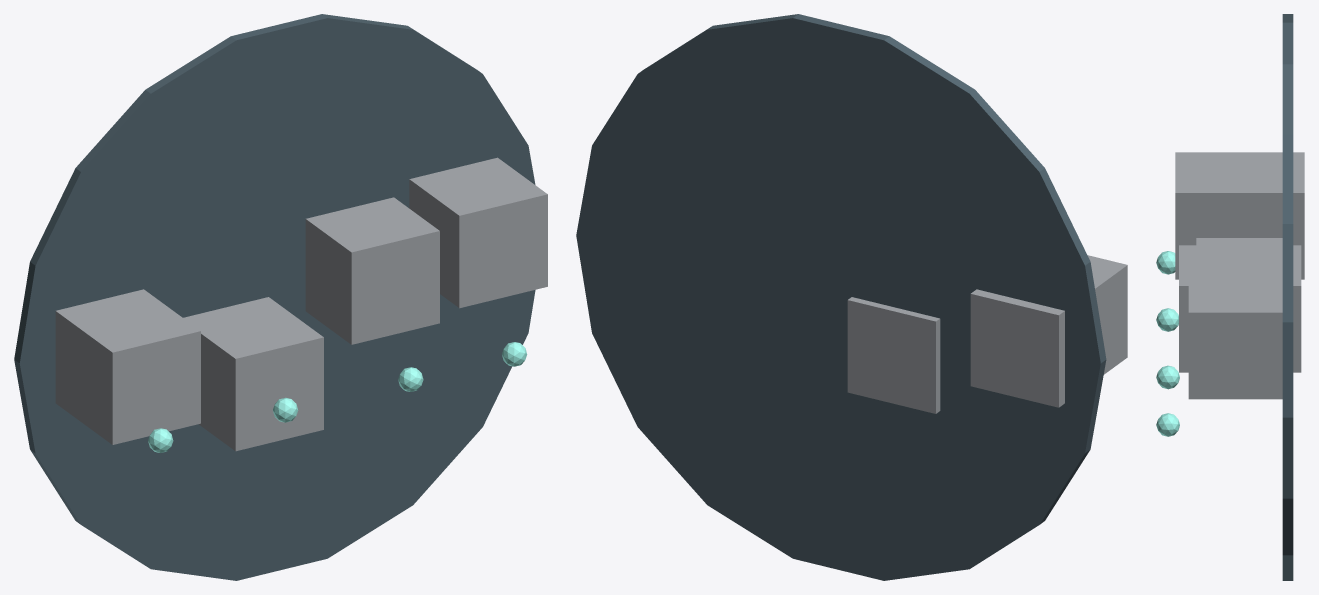
File: 04_event_hazard_cluster.glb
3 renders of one model, left to right at view 1: azimuth 30°, elevation 25°; view 2: azimuth 150°, elevation 25°; view 3: azimuth 270°, elevation 25°, orthographic. The views are drawn at different scales.
Parts seen in each view (by area): view 1: scatter_base, tech_crate_0, tech_crate_2, tech_crate_1, tech_crate_3; view 2: scatter_base, tech_crate_0, tech_crate_1; view 3: tech_crate_3, tech_crate_0, scatter_base, tech_crate_2, tech_crate_1, status_light_2, status_light_3, status_light_1, status_light_0.
Part boxes in pixels (x1=…): scatter_base: x1=14, y1=14, x2=535, y2=580; tech_crate_0: x1=55, y1=289, x2=200, y2=444; tech_crate_2: x1=305, y1=197, x2=439, y2=344; tech_crate_1: x1=183, y1=297, x2=323, y2=451; tech_crate_3: x1=409, y1=157, x2=547, y2=308; scatter_base: x1=576, y1=14, x2=1106, y2=580; tech_crate_0: x1=970, y1=255, x2=1127, y2=407; tech_crate_1: x1=847, y1=297, x2=940, y2=413; tech_crate_3: x1=1188, y1=272, x2=1282, y2=399; tech_crate_0: x1=1175, y1=152, x2=1304, y2=279; scatter_base: x1=1282, y1=14, x2=1293, y2=580; tech_crate_2: x1=1196, y1=238, x2=1282, y2=271; tech_crate_1: x1=1179, y1=245, x2=1301, y2=372; status_light_2: x1=1156, y1=365, x2=1179, y2=389; status_light_3: x1=1156, y1=413, x2=1179, y2=436; status_light_1: x1=1156, y1=308, x2=1178, y2=331; status_light_0: x1=1156, y1=251, x2=1175, y2=274.
Bounding box in the file's own units: 1.9 × 1.87 × 0.4959.
